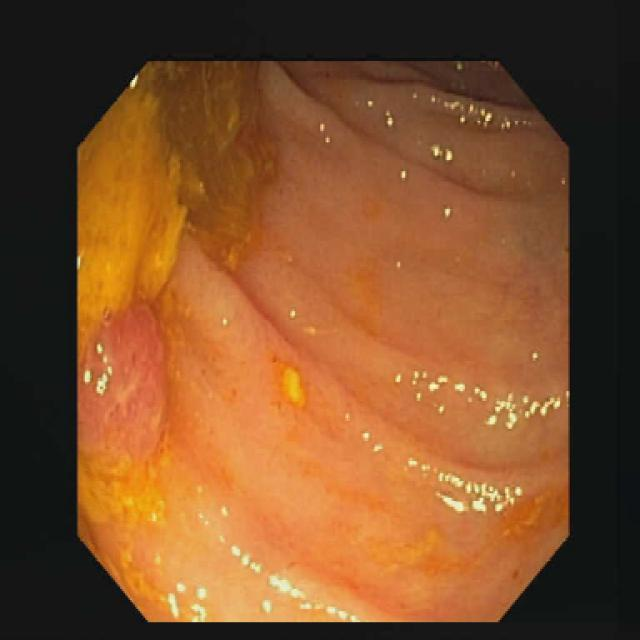tumor: (78, 300, 170, 513)
